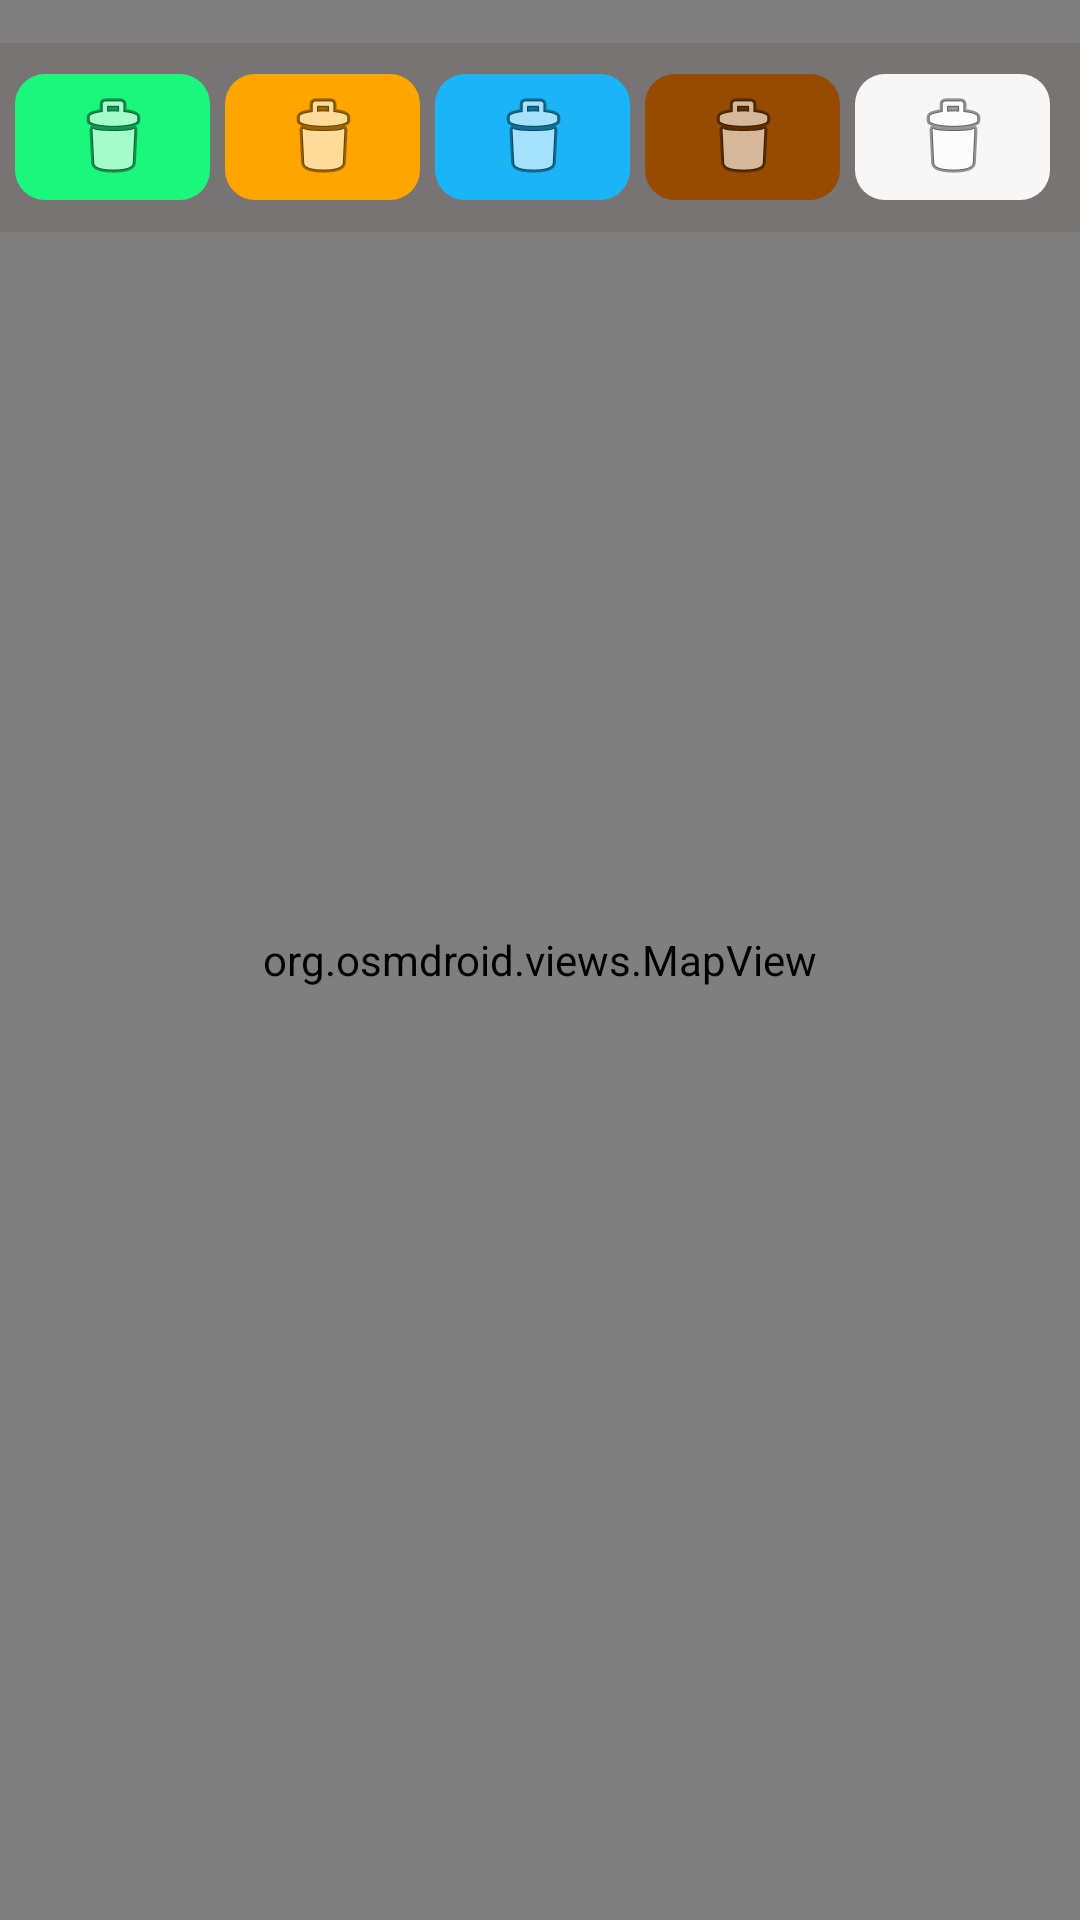

Named icons in this screenshot (1080px×1920px) and their centers, (x,y):
delete: (112,137), (322,137), (532,137), (742,137), (952,137)
